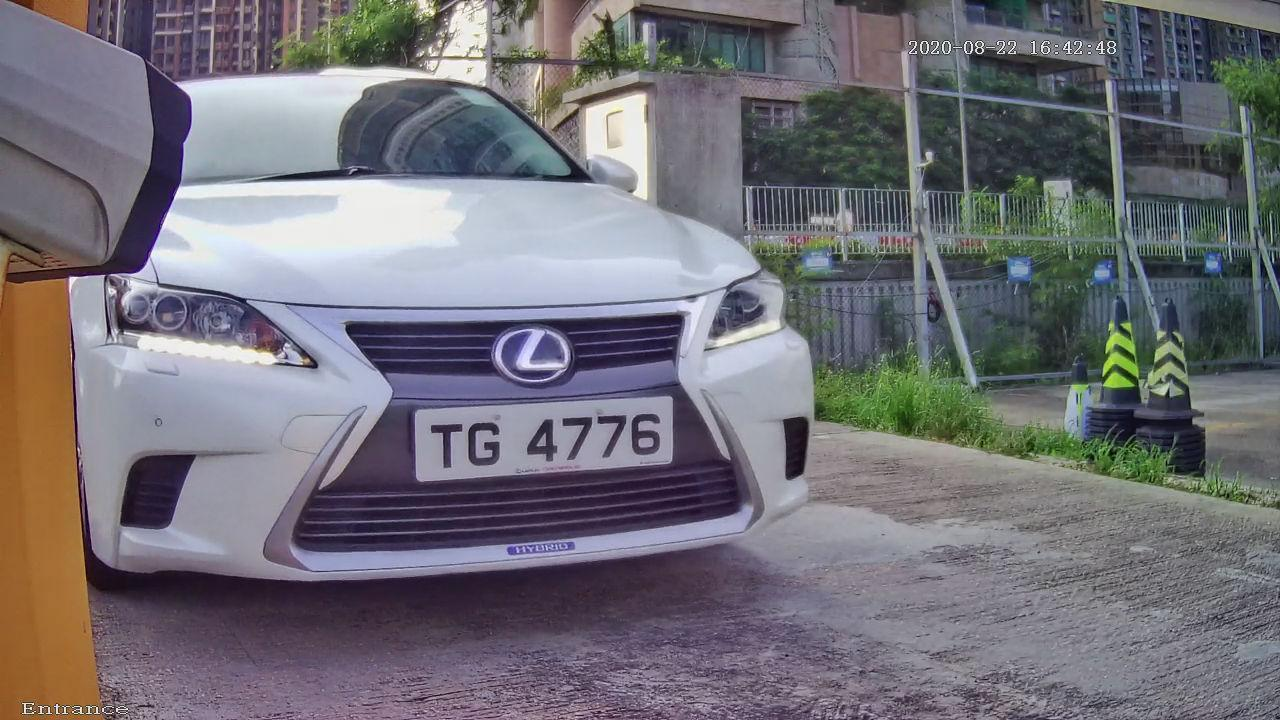Car: (18, 20, 852, 634)
License Plate: (386, 370, 714, 510)
